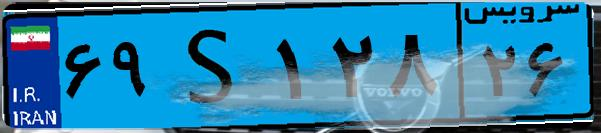1: (270, 28, 330, 110)
2: (330, 28, 385, 110), (475, 38, 525, 113)
6: (57, 26, 110, 100), (525, 38, 570, 115)
8: (385, 28, 445, 110)
9: (110, 28, 158, 98)
S: (158, 12, 270, 120)
